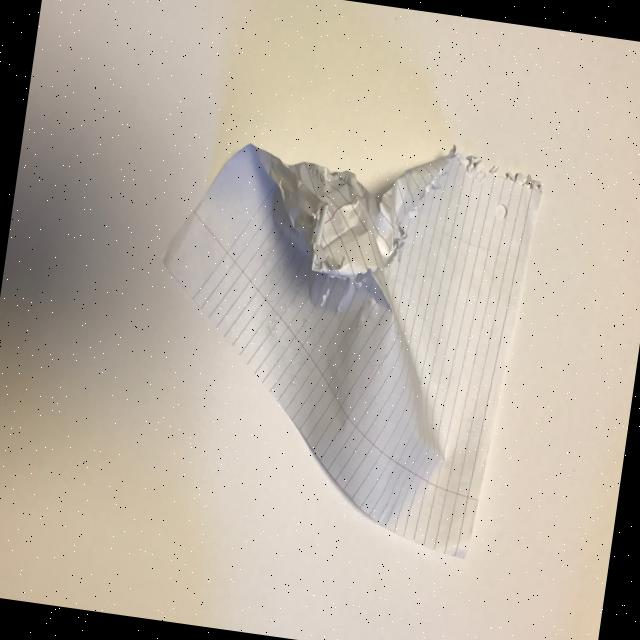paper: (125, 107, 548, 563)
